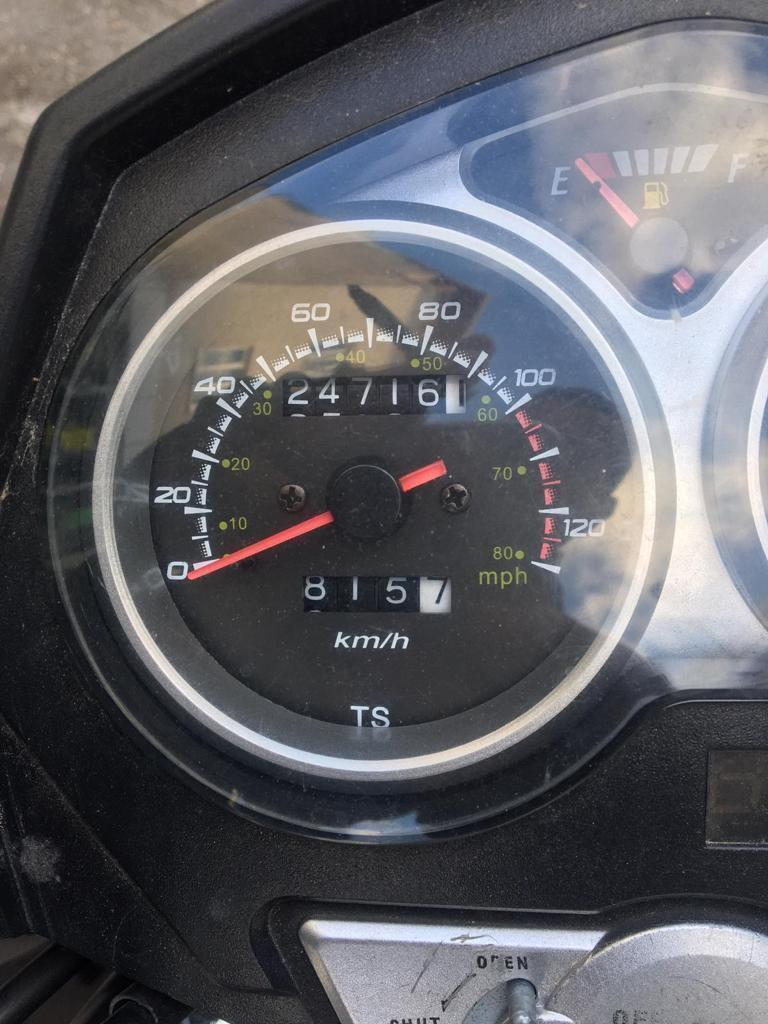1: (457, 377, 465, 407), (391, 376, 398, 405)
2: (287, 378, 309, 404)
4: (317, 377, 340, 404)
6: (417, 378, 439, 406)
7: (351, 376, 373, 406)
odometer: (280, 373, 468, 418)
